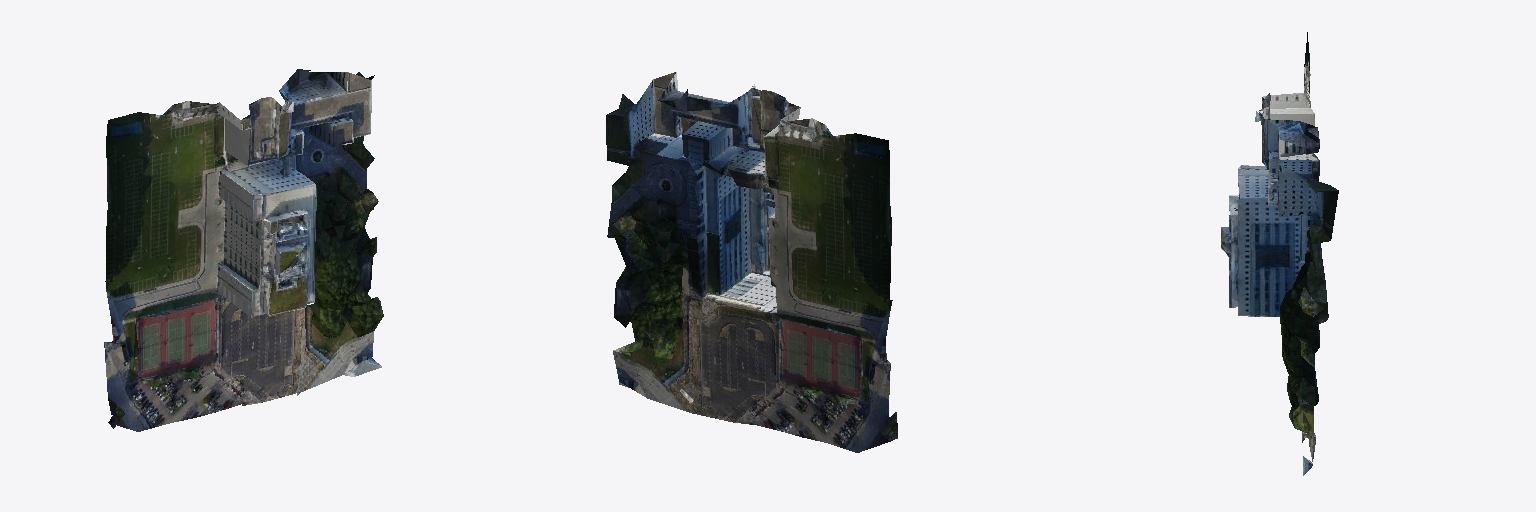
The picture shows the model from 3 angles: view 1: azimuth 30°, elevation 25°; view 2: azimuth 150°, elevation 25°; view 3: azimuth 270°, elevation 25°; orthographic projection.
Parts seen in each view (by area): view 1: obj_0; view 2: obj_0; view 3: obj_0.
Boxes of the visible parts, <box> form: obj_0: <box>104,69,383,431</box>; obj_0: <box>606,72,897,452</box>; obj_0: <box>1221,32,1338,475</box>.
Bounding box in the file's own units: 161 × 180 × 59.52.
1 materials, 1 textured.